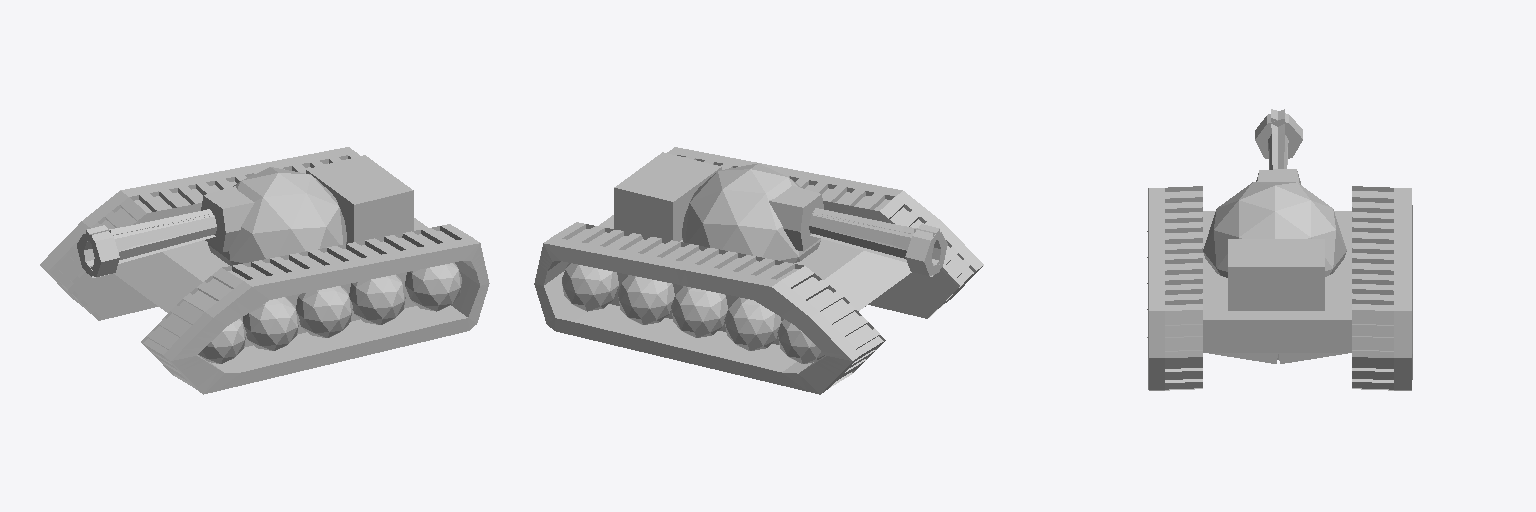
Rendered from grostas.obj.
3 renders of one model, left to right at view 1: azimuth 30°, elevation 25°; view 2: azimuth 150°, elevation 25°; view 3: azimuth 270°, elevation 25°, orthographic.
Visible parts, largest first — view 1: Cube; view 2: Cube; view 3: Cube.
Part boxes in pixels (bbox=[...]): Cube: bbox=[40, 147, 489, 394]; Cube: bbox=[534, 147, 983, 394]; Cube: bbox=[1147, 109, 1412, 390].
Size of the model in its own units: 2.1 by 0.9567 by 1.44.